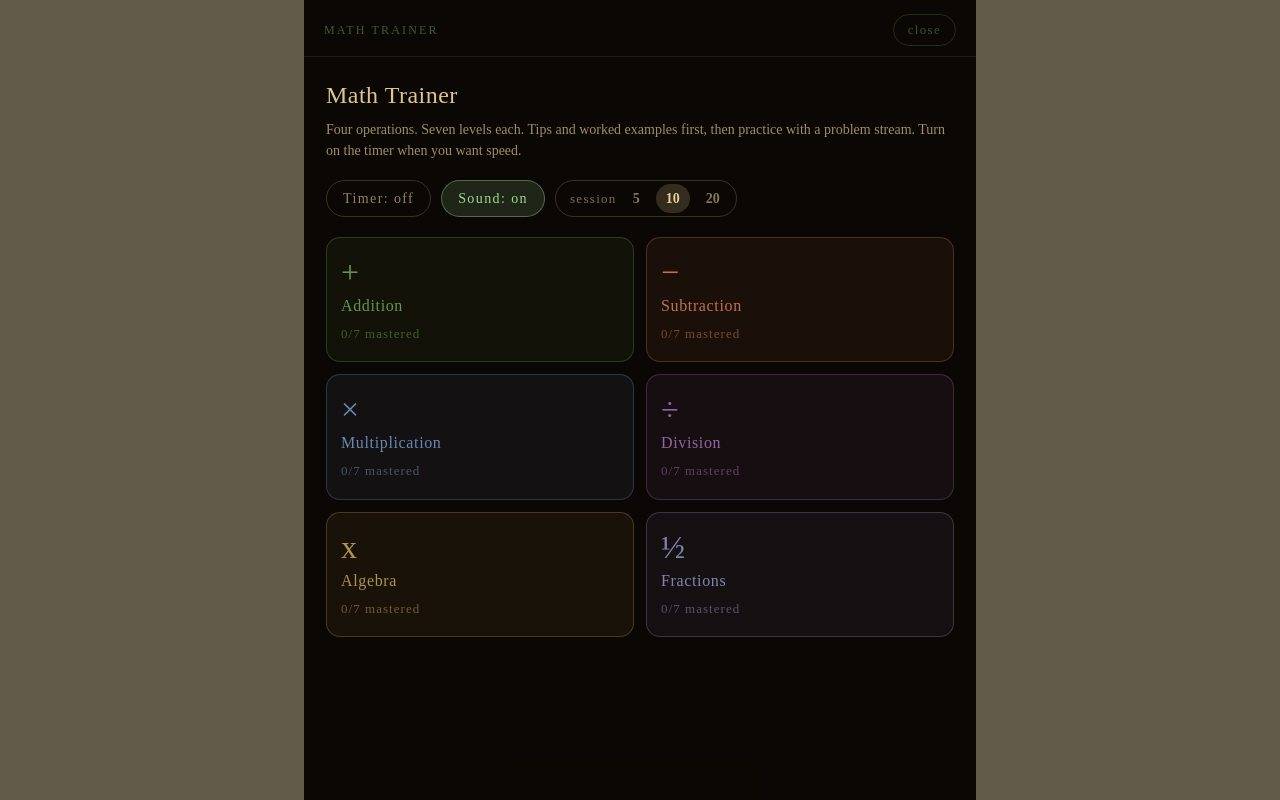
it: MathTrainer › opens the fractions track and renders the simplify level
The width and height of the screenshot is (1280, 800).
Click the button "½ Fractions 0/7 mastered": point(694, 580) [646,512,954,637]
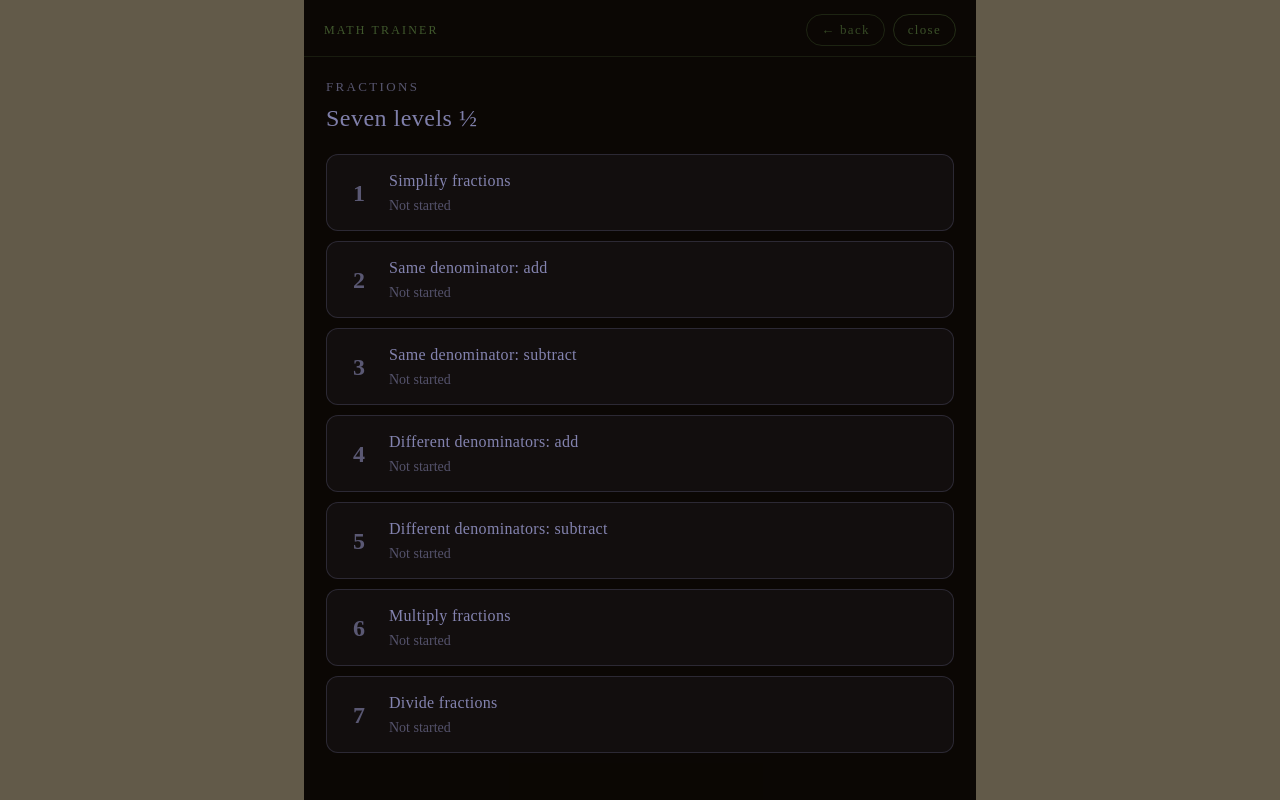
Click the button with aria-label "Open level 1: Simplify fractions": point(450, 180) [326,154,954,231]
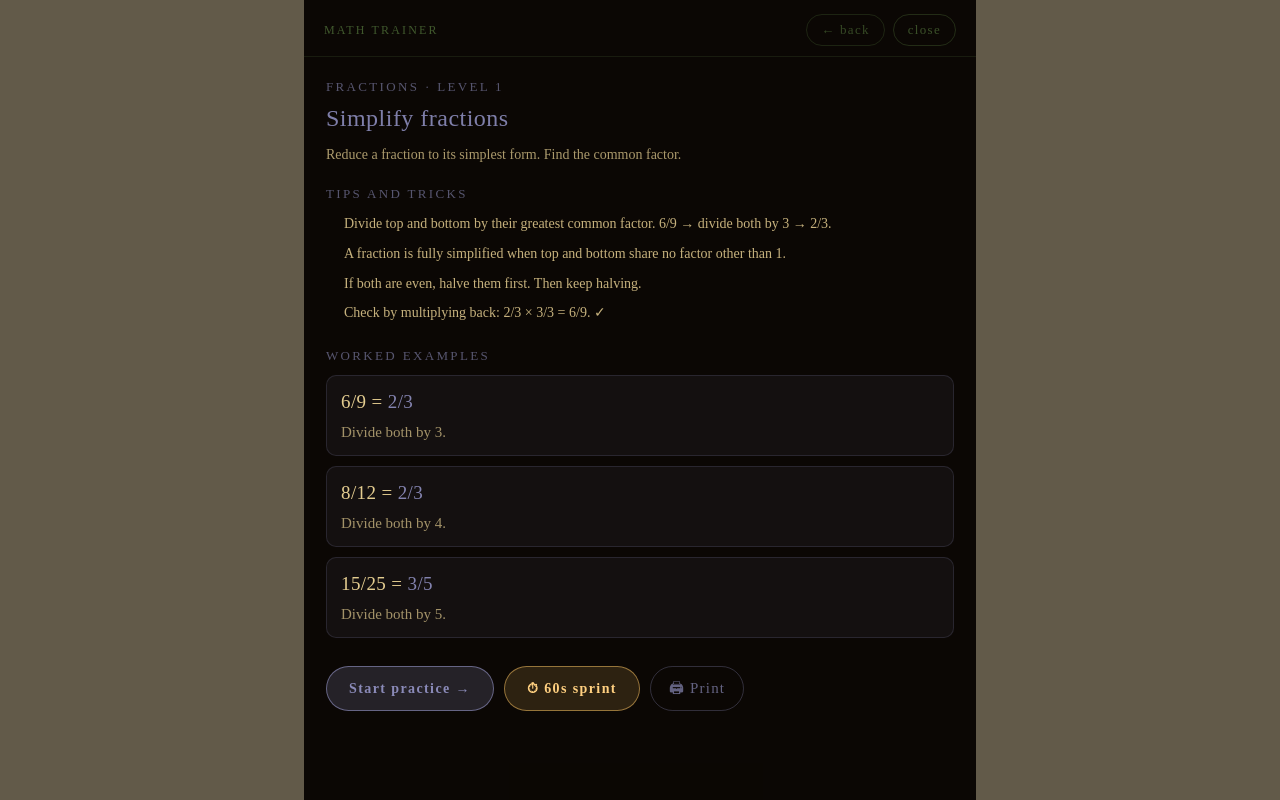
expect the list item "greatest common factor" is shown: met, box [344,216,832,231]
